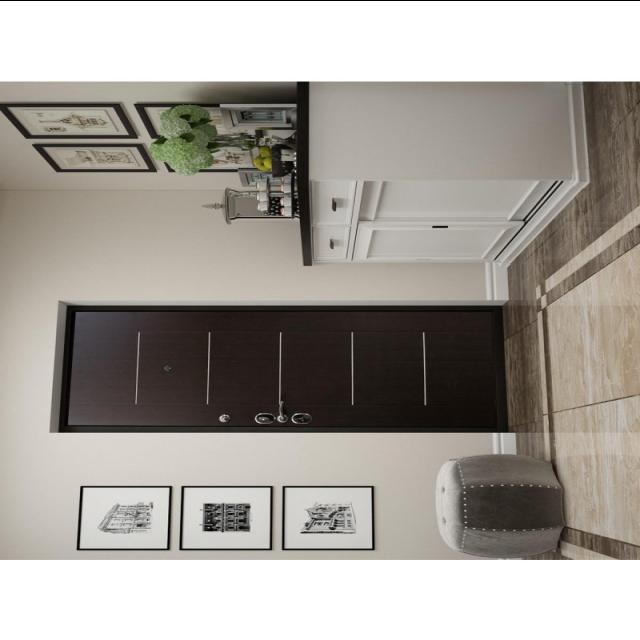close: (73, 308, 506, 432)
